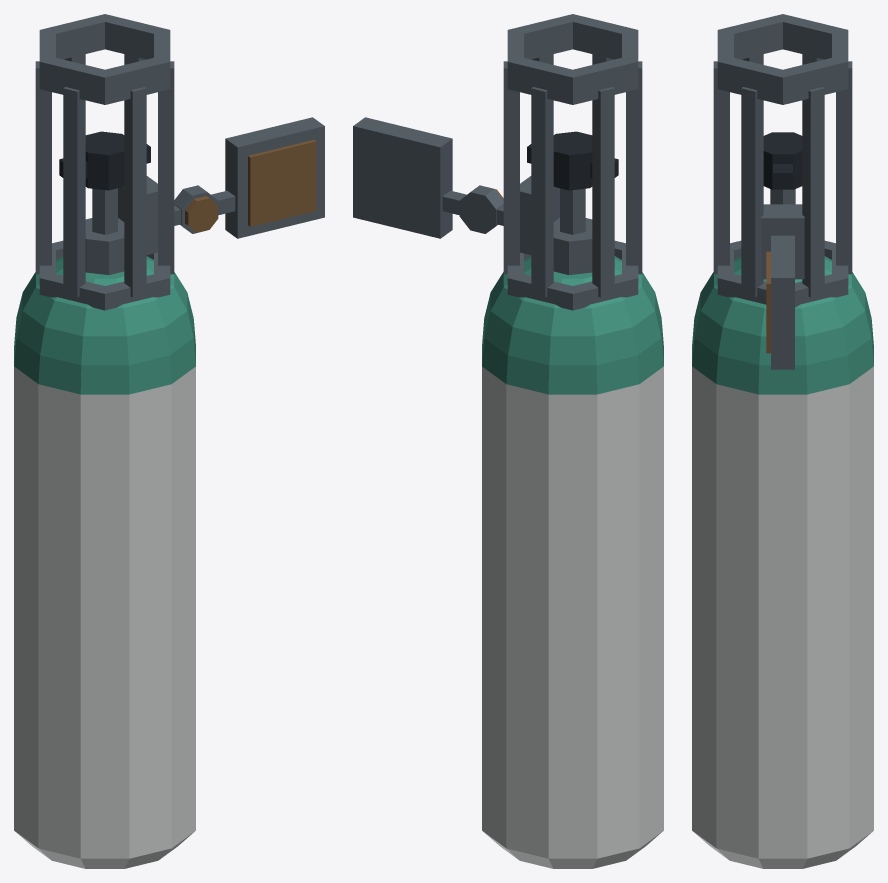
Rendered from medical-gas-cylinder-a2d6a7.glb.
3 renders of one model, left to right at view 1: azimuth 30°, elevation 25°; view 2: azimuth 150°, elevation 25°; view 3: azimuth 270°, elevation 25°, orthographic.
Parts seen in each view (by area): view 1: cylinder-shell, regulator-mesh, valve-knob-mesh; view 2: cylinder-shell, regulator-mesh, valve-knob-mesh; view 3: cylinder-shell, regulator-mesh, valve-knob-mesh.
Boxes of the visible parts, <box> form: cylinder-shell: <box>14,14,195,868</box>; regulator-mesh: <box>118,117,324,254</box>; valve-knob-mesh: <box>59,131,150,190</box>; cylinder-shell: <box>482,14,663,868</box>; regulator-mesh: <box>353,117,559,254</box>; valve-knob-mesh: <box>527,131,618,190</box>; cylinder-shell: <box>692,14,873,868</box>; regulator-mesh: <box>761,204,804,369</box>; valve-knob-mesh: <box>763,132,802,189</box>.
Bounding box in the file's own units: 0.5022 × 1.3 × 0.2705.
